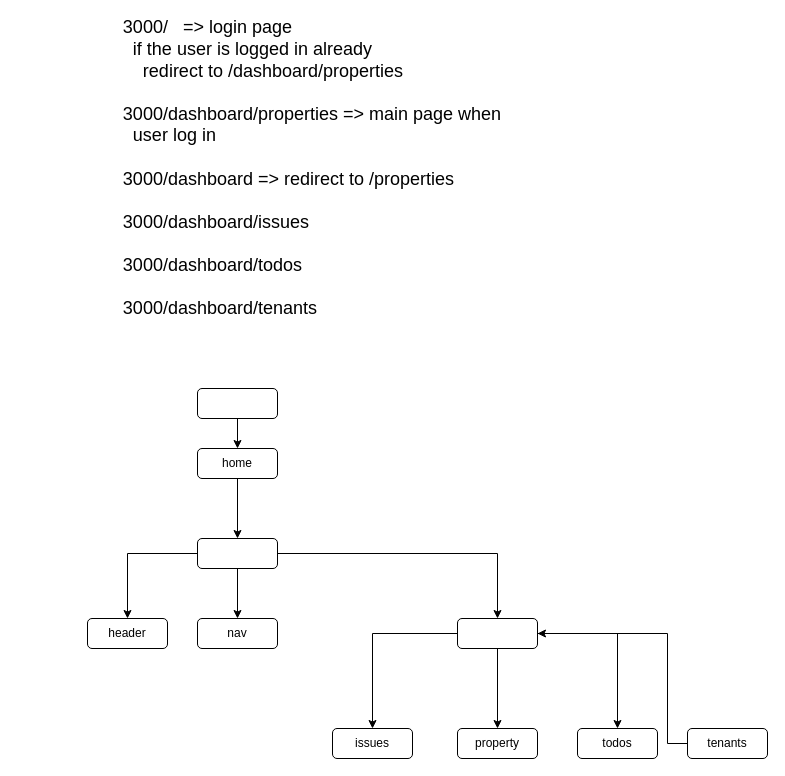
Some shapes in this 785 by 776 pixel diagram are drawn without their labels. Here are the shapes that lost their labels. From the top down, the centre of each, then its label:
At point 237,403: "app".
At point 237,553: "paperbase".
At point 497,633: "content".
